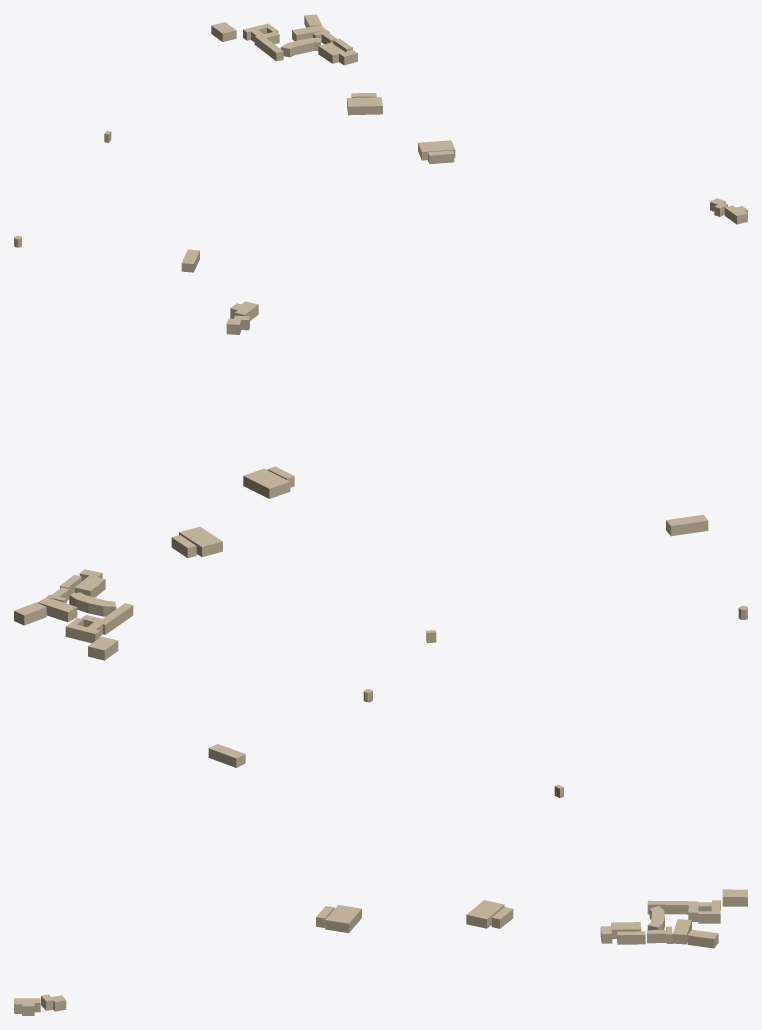
File: 16_8-estimated-coarse.glb
3 views of the same model, one above another, from view 1: azimuth 30°, elevation 25°; view 2: azimuth 150°, elevation 25°; view 3: azimuth 270°, elevation 25° (orthographic). The views are drawn at different scales.
Bounding box in the file's own units: 860 × 12 × 840.
